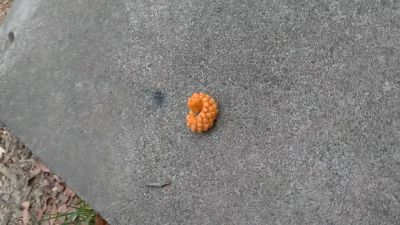eggs: (185, 90, 220, 133)
